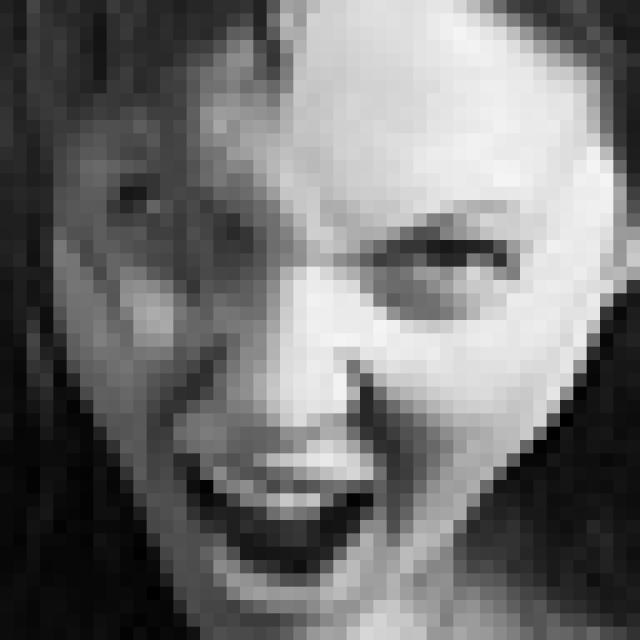angry: (102, 179, 540, 620)
